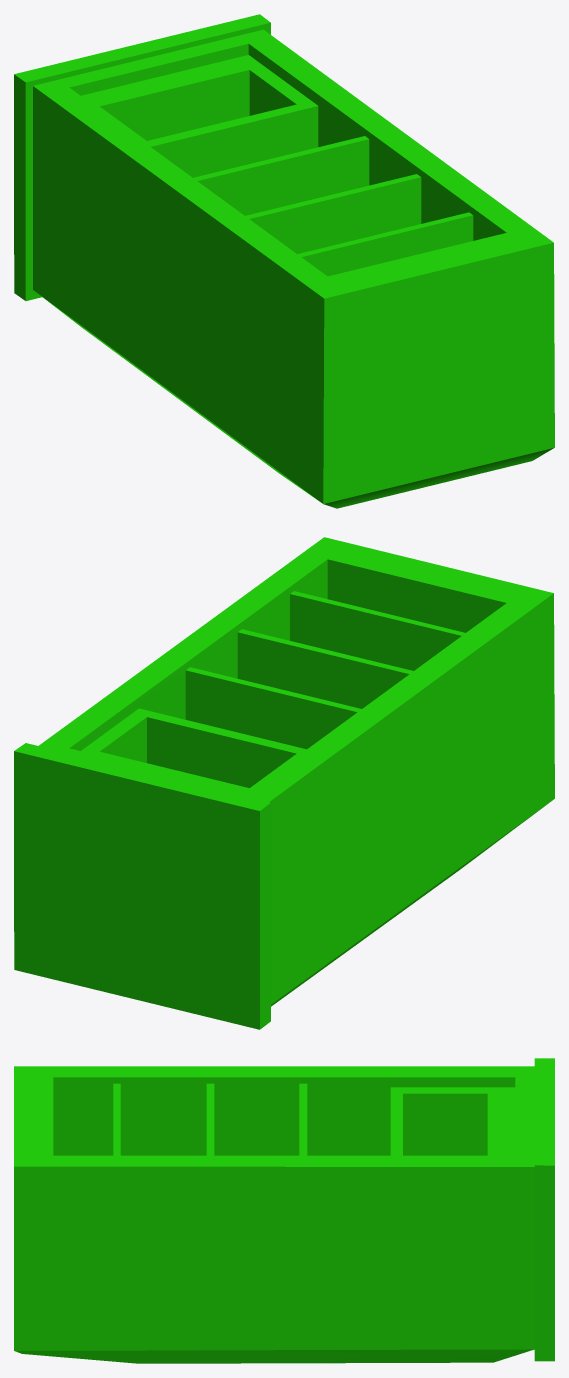
Rendered from SM_Fridge_Collider.fbx.
3 renders of one model, top to bottom at view 1: azimuth 30°, elevation 25°; view 2: azimuth 150°, elevation 25°; view 3: azimuth 270°, elevation 25°, orthographic. The views are drawn at different scales.
Visible parts, largest first — view 1: SM_Fridge_Collider; view 2: SM_Fridge_Collider; view 3: SM_Fridge_Collider.
Part boxes in pixels (<box>): SM_Fridge_Collider: <box>14,14,554,508</box>; SM_Fridge_Collider: <box>14,537,554,1029</box>; SM_Fridge_Collider: <box>14,1058,554,1363</box>.
Bounding box in the file's own units: 98.92 × 91.38 × 211.
